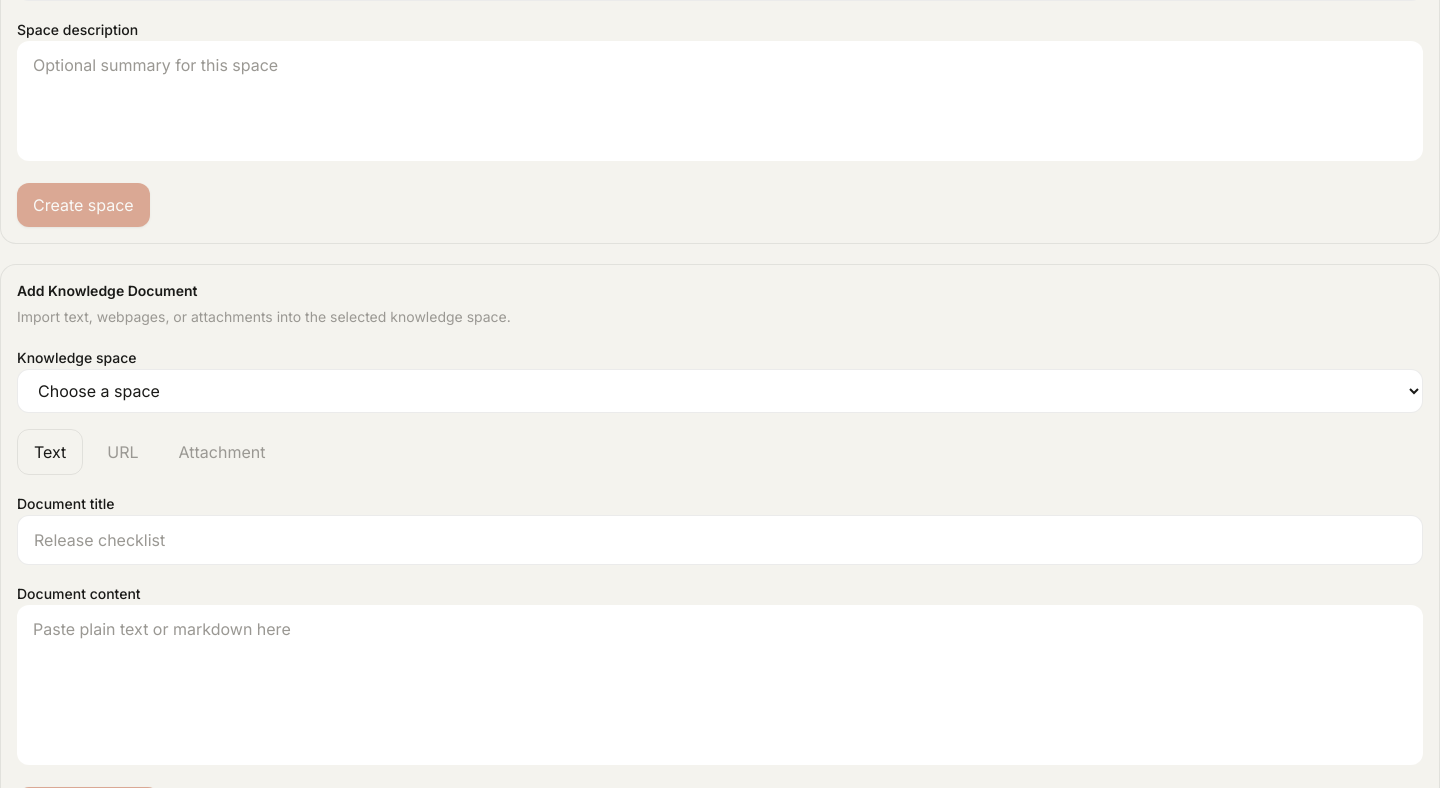
Test: KnowledgeSettingsTab › shows knowledge space actions and document actions from the API response
The width and height of the screenshot is (1440, 788).
(page scrolled)
Select "Engineering" in the dropdown labelled "Knowledge space" at coordinates (720, 391), box [17,369,1423,413]
(page scrolled)
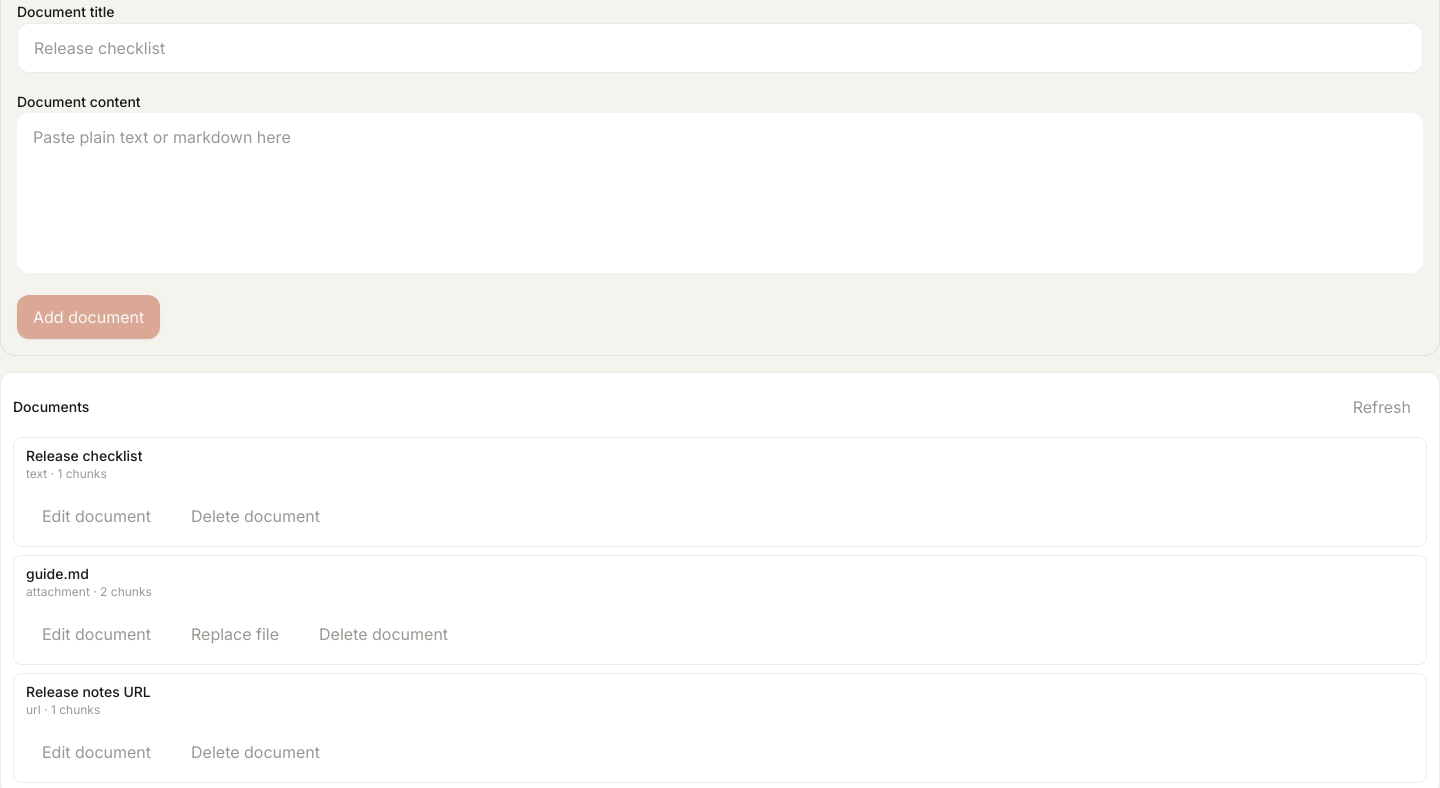
Result: the button "Edit document" below "Release checklist" is shown at [26,494,167,538]
Result: the button "Delete document" below "Release checklist" is shown at [175,494,336,538]
Result: the button "Replace file" is shown at [175,612,295,656]
